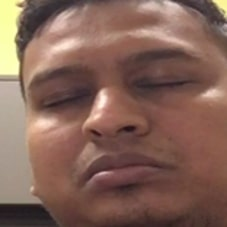drowsy: (26, 46, 210, 197)
